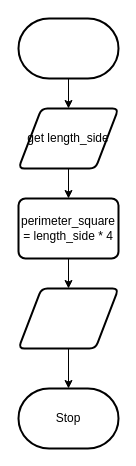
Image size: 136x466. Some labels were removed from this diagram. The shapes that lost their labels are listed below. From the top down, each one's centre as x and y in pixels, then its label:
At (68,48): "Start".
At (68,318): "Show perimeter_square".
